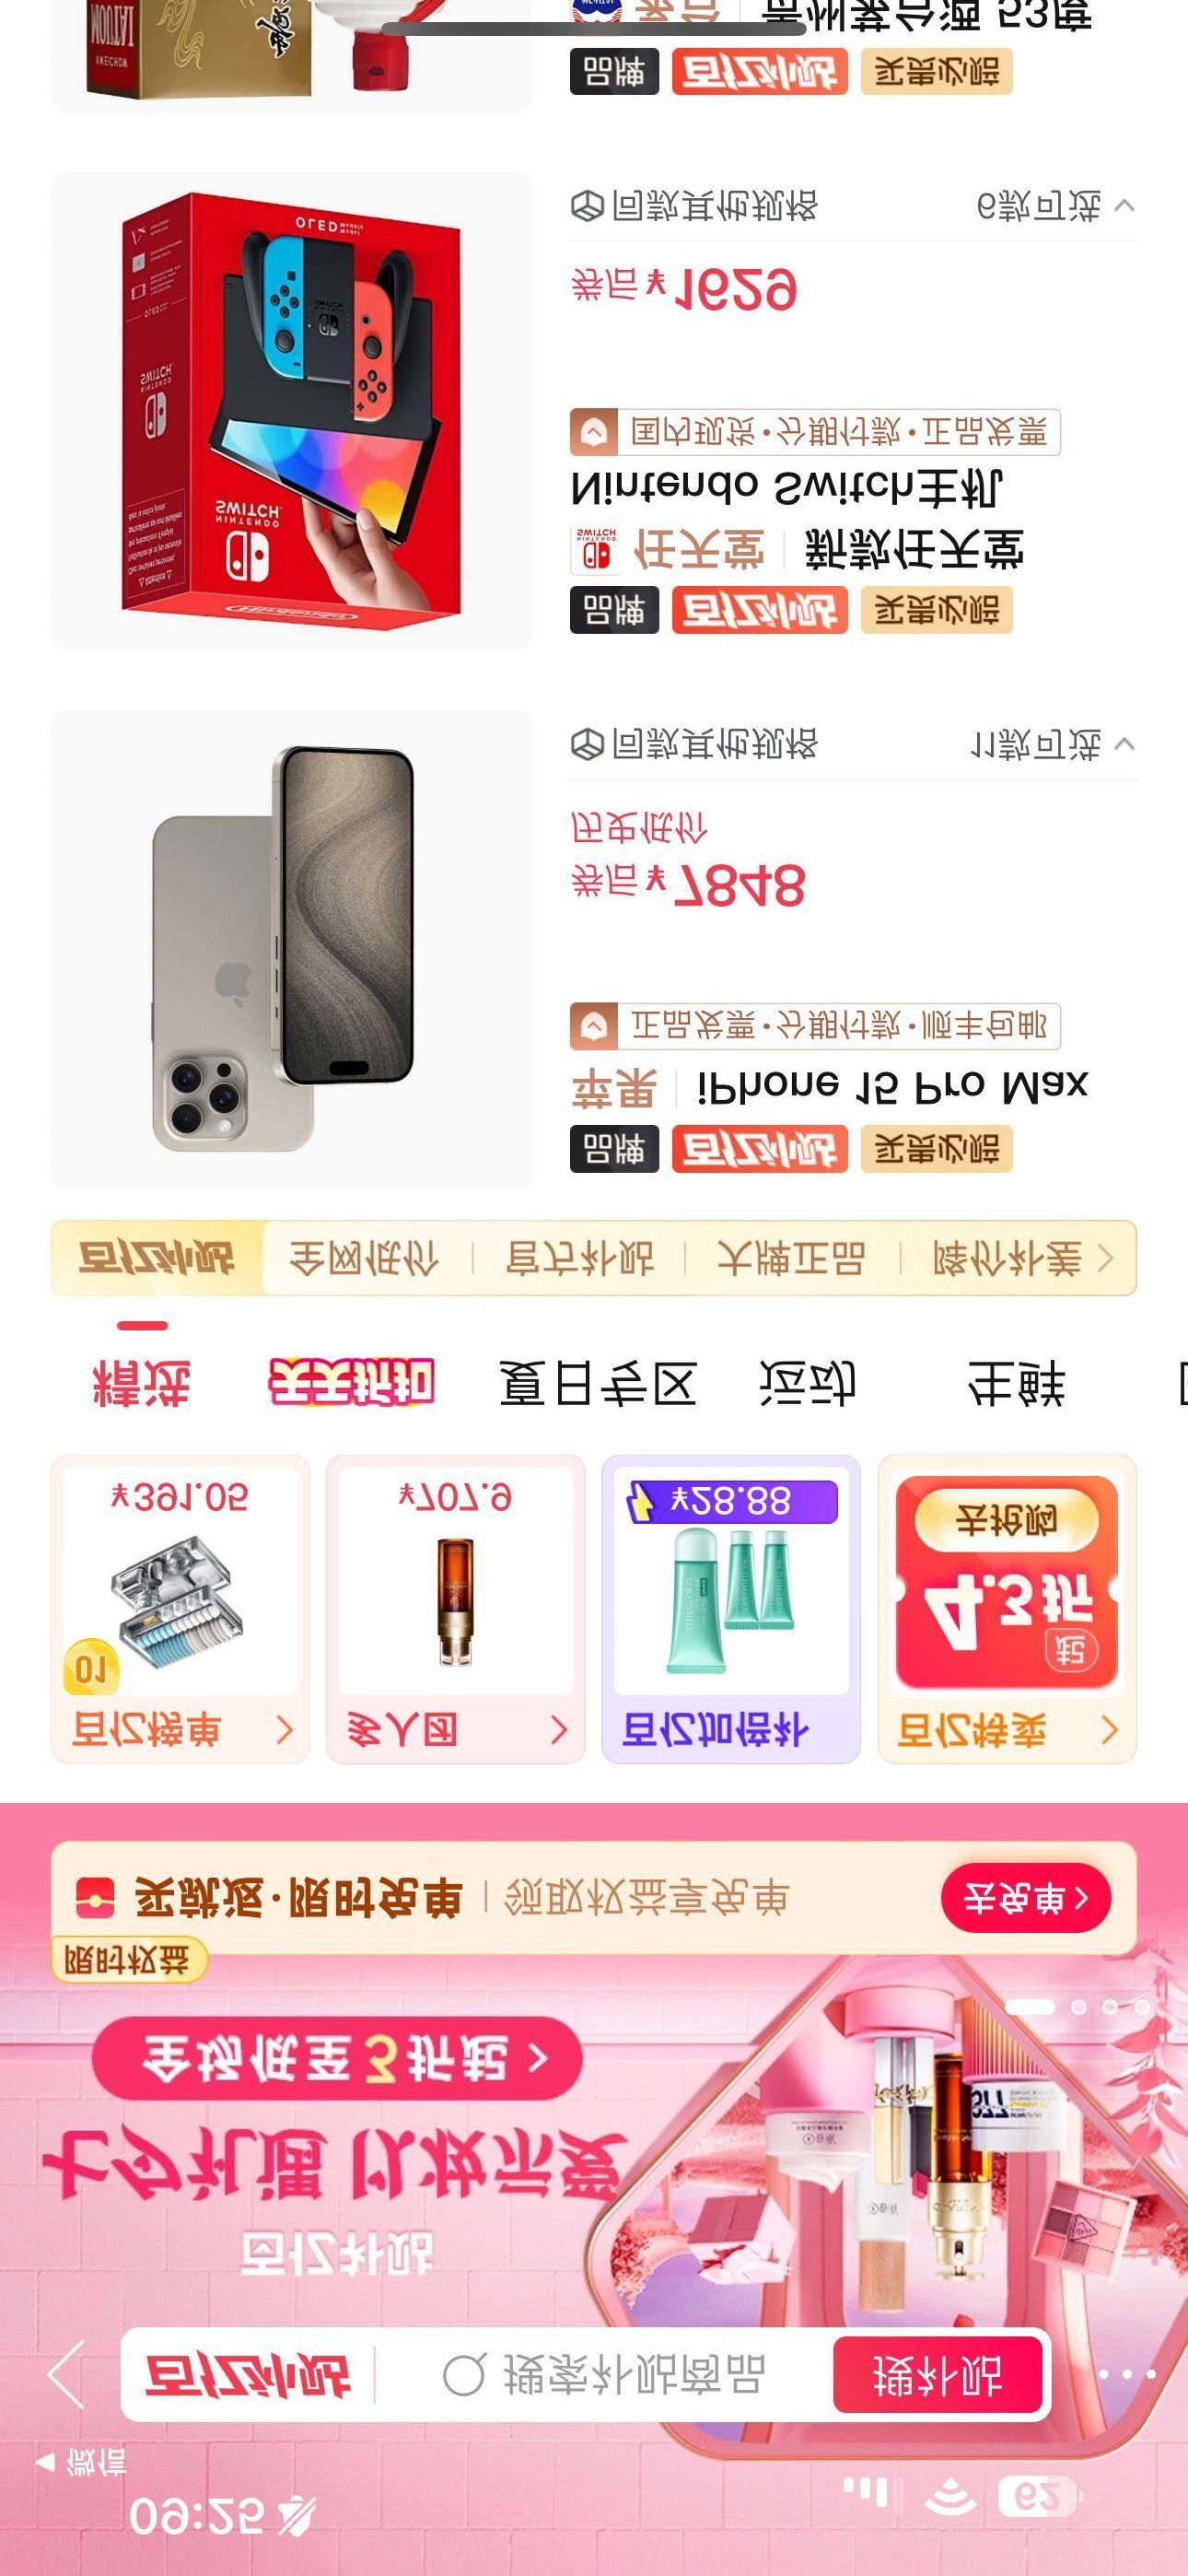banner: (26, 1817, 1163, 2014)
item: (20, 698, 1178, 1245), (12, 153, 1185, 683)
op_bar: (2, 2300, 1188, 2453)
seckill: (7, 1304, 1185, 1796)
